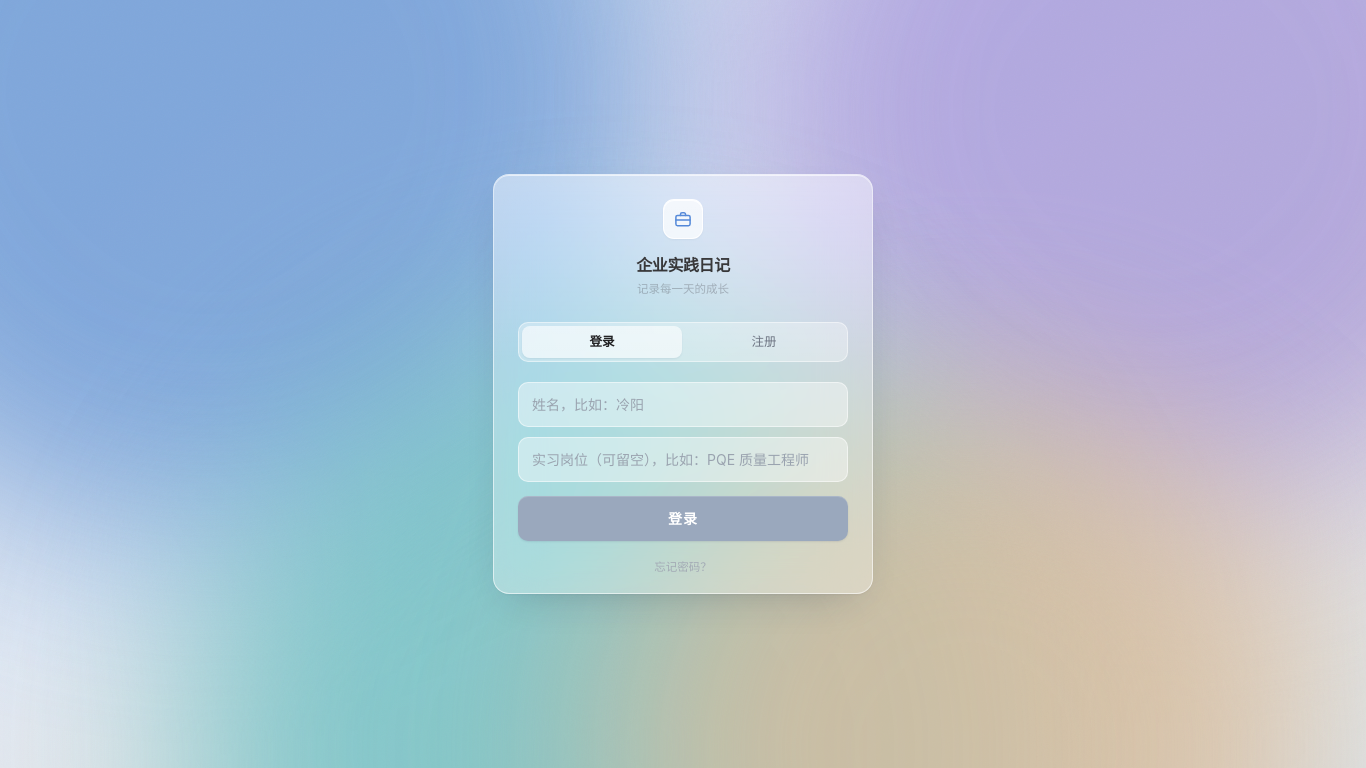
Test case: WelcomePage 假登录流程 › 揭晓页会把填的内容念出来，让人知道它真的被用上了
This screenshot has width=1366, height=768.
Type "冷阳" into the field with placeholder "姓名，比如：冷阳" at (683,405), box 518,382 -> 848,427
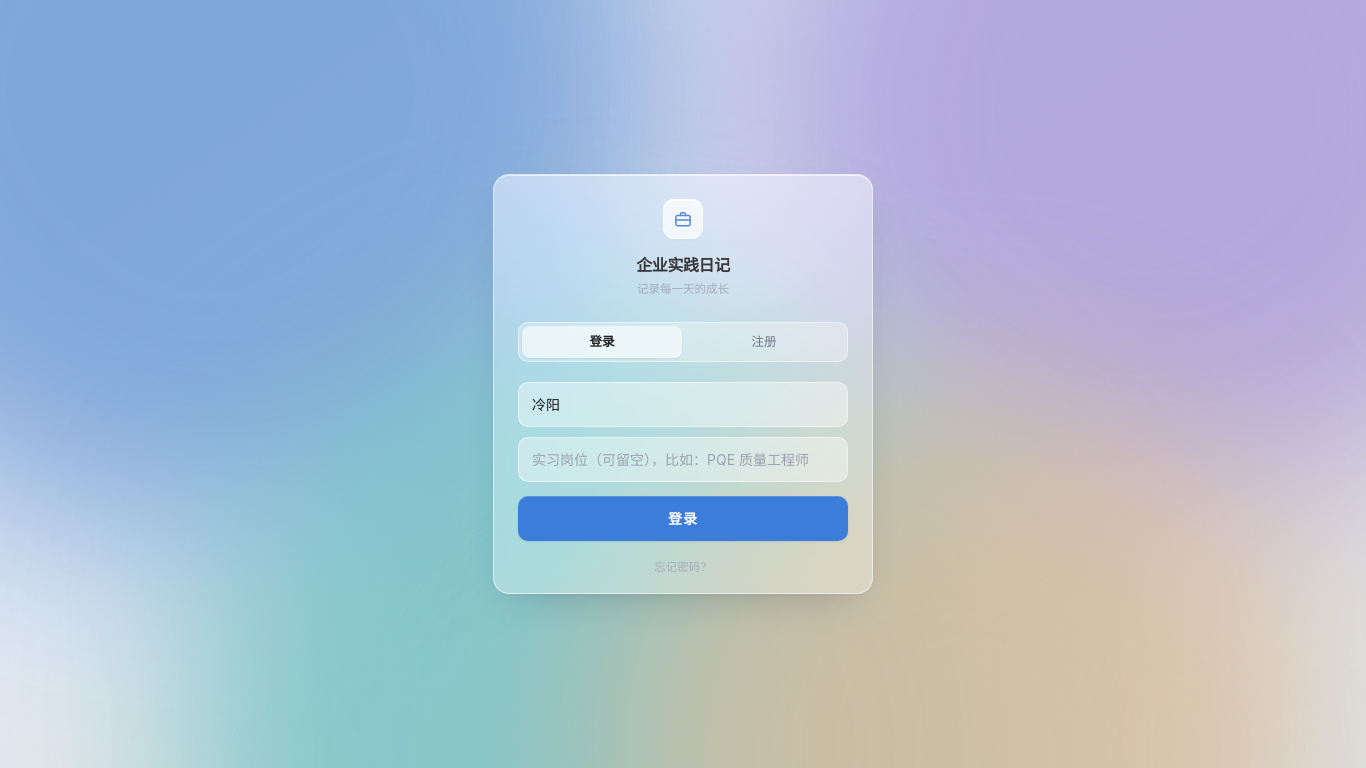
Type "PQE" into the field with placeholder "实习岗位（可留空），比如：PQE 质量工程师" at (683,460), box 518,437 -> 848,482
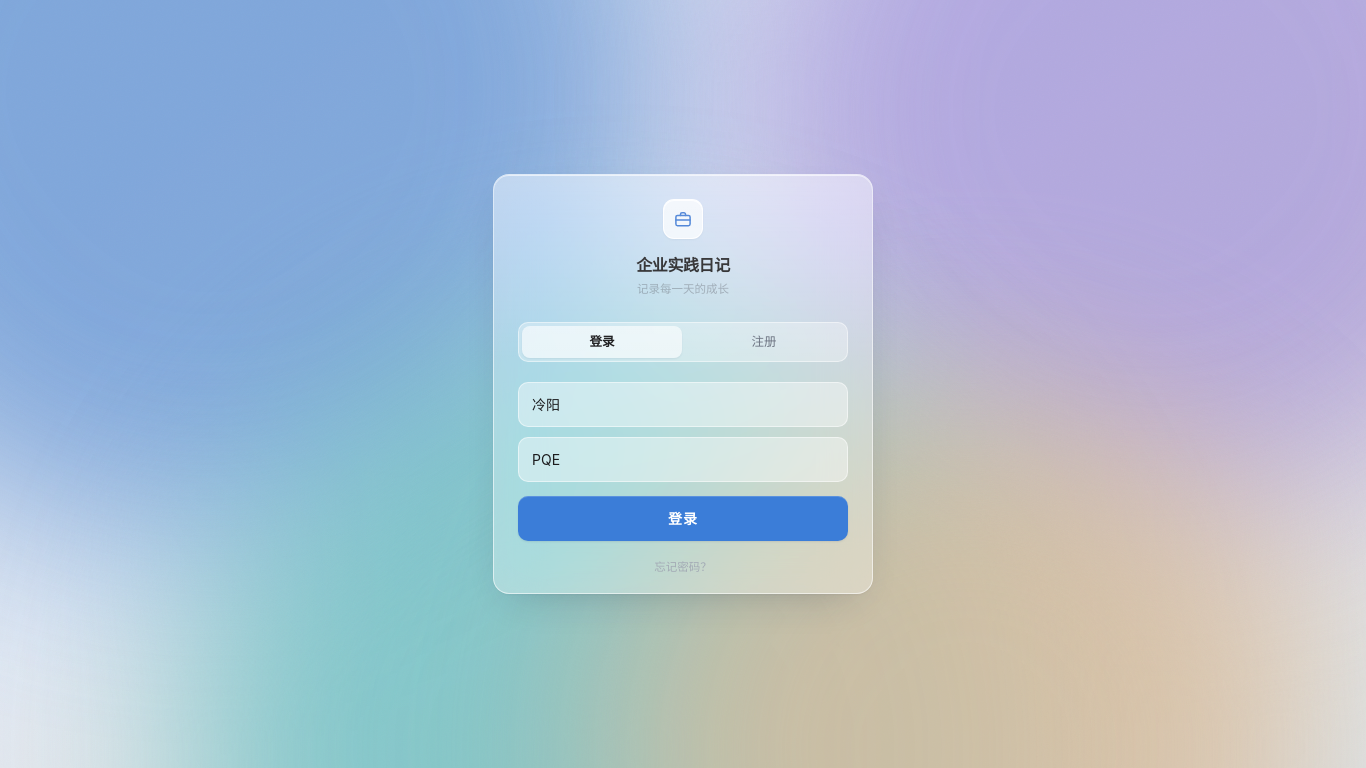
Click the submit button at (683,519), box 518,496 -> 848,541
Wait 1300 ms
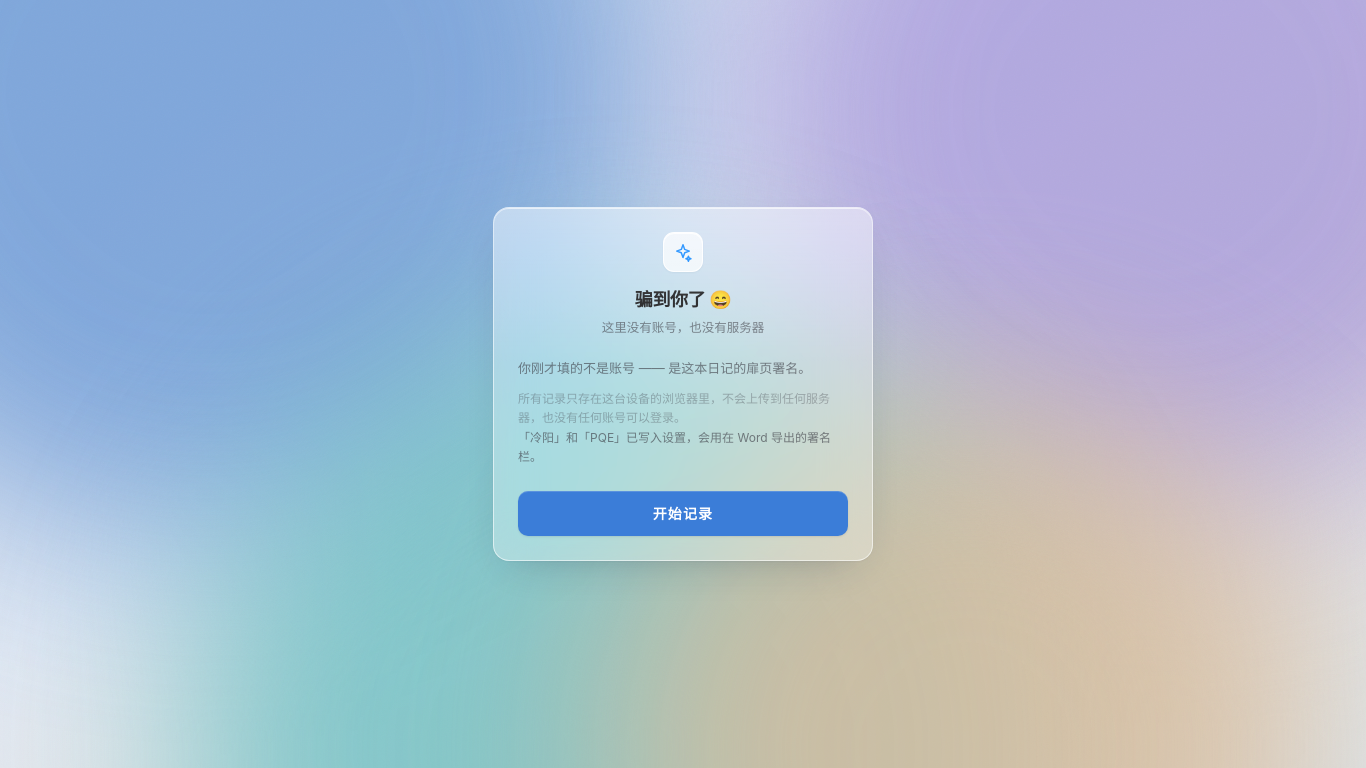
Result: the text "「冷阳」和「PQE」已写入设置，会用在 Word 导出的署名栏。" is shown at 518,430 -> 831,464
